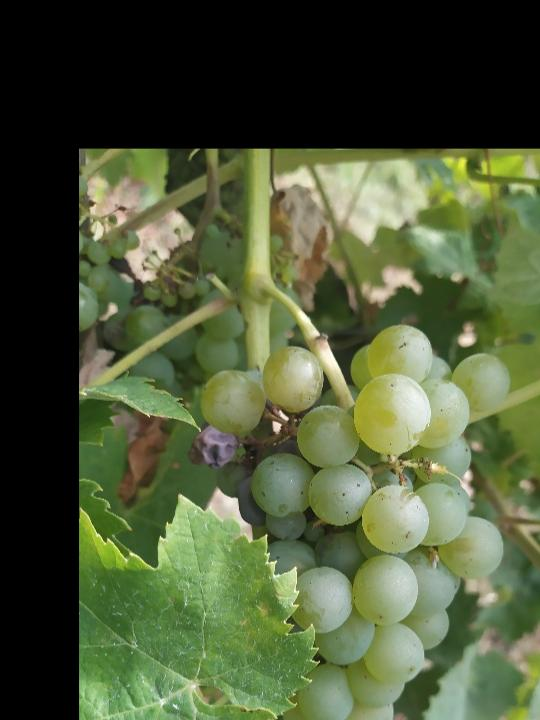grape: (196, 322, 512, 720)
